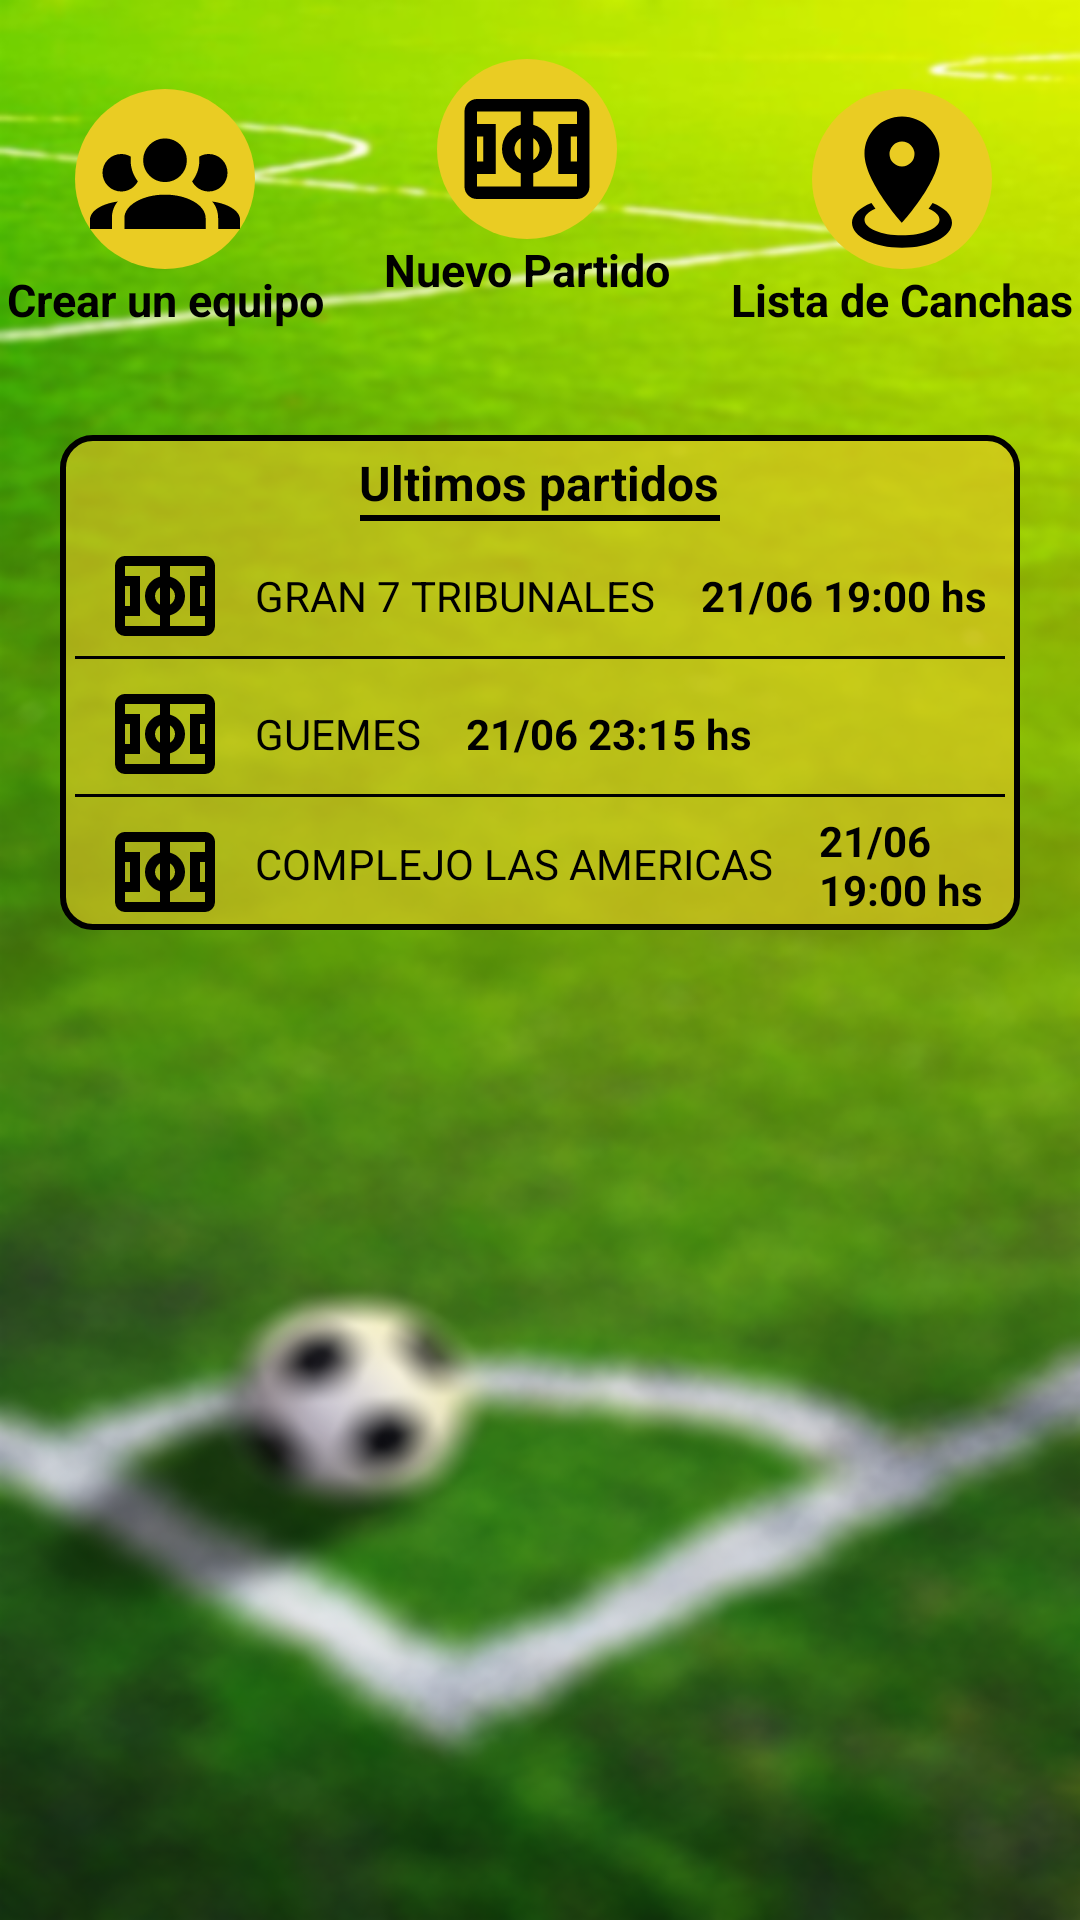

Point at icon controls on the screen. Image size 1080 x 1920, points as (x=x, y=y).
field rounded: (x=527, y=149)
friends rounded: (x=165, y=179)
location rounded: (x=902, y=179)
